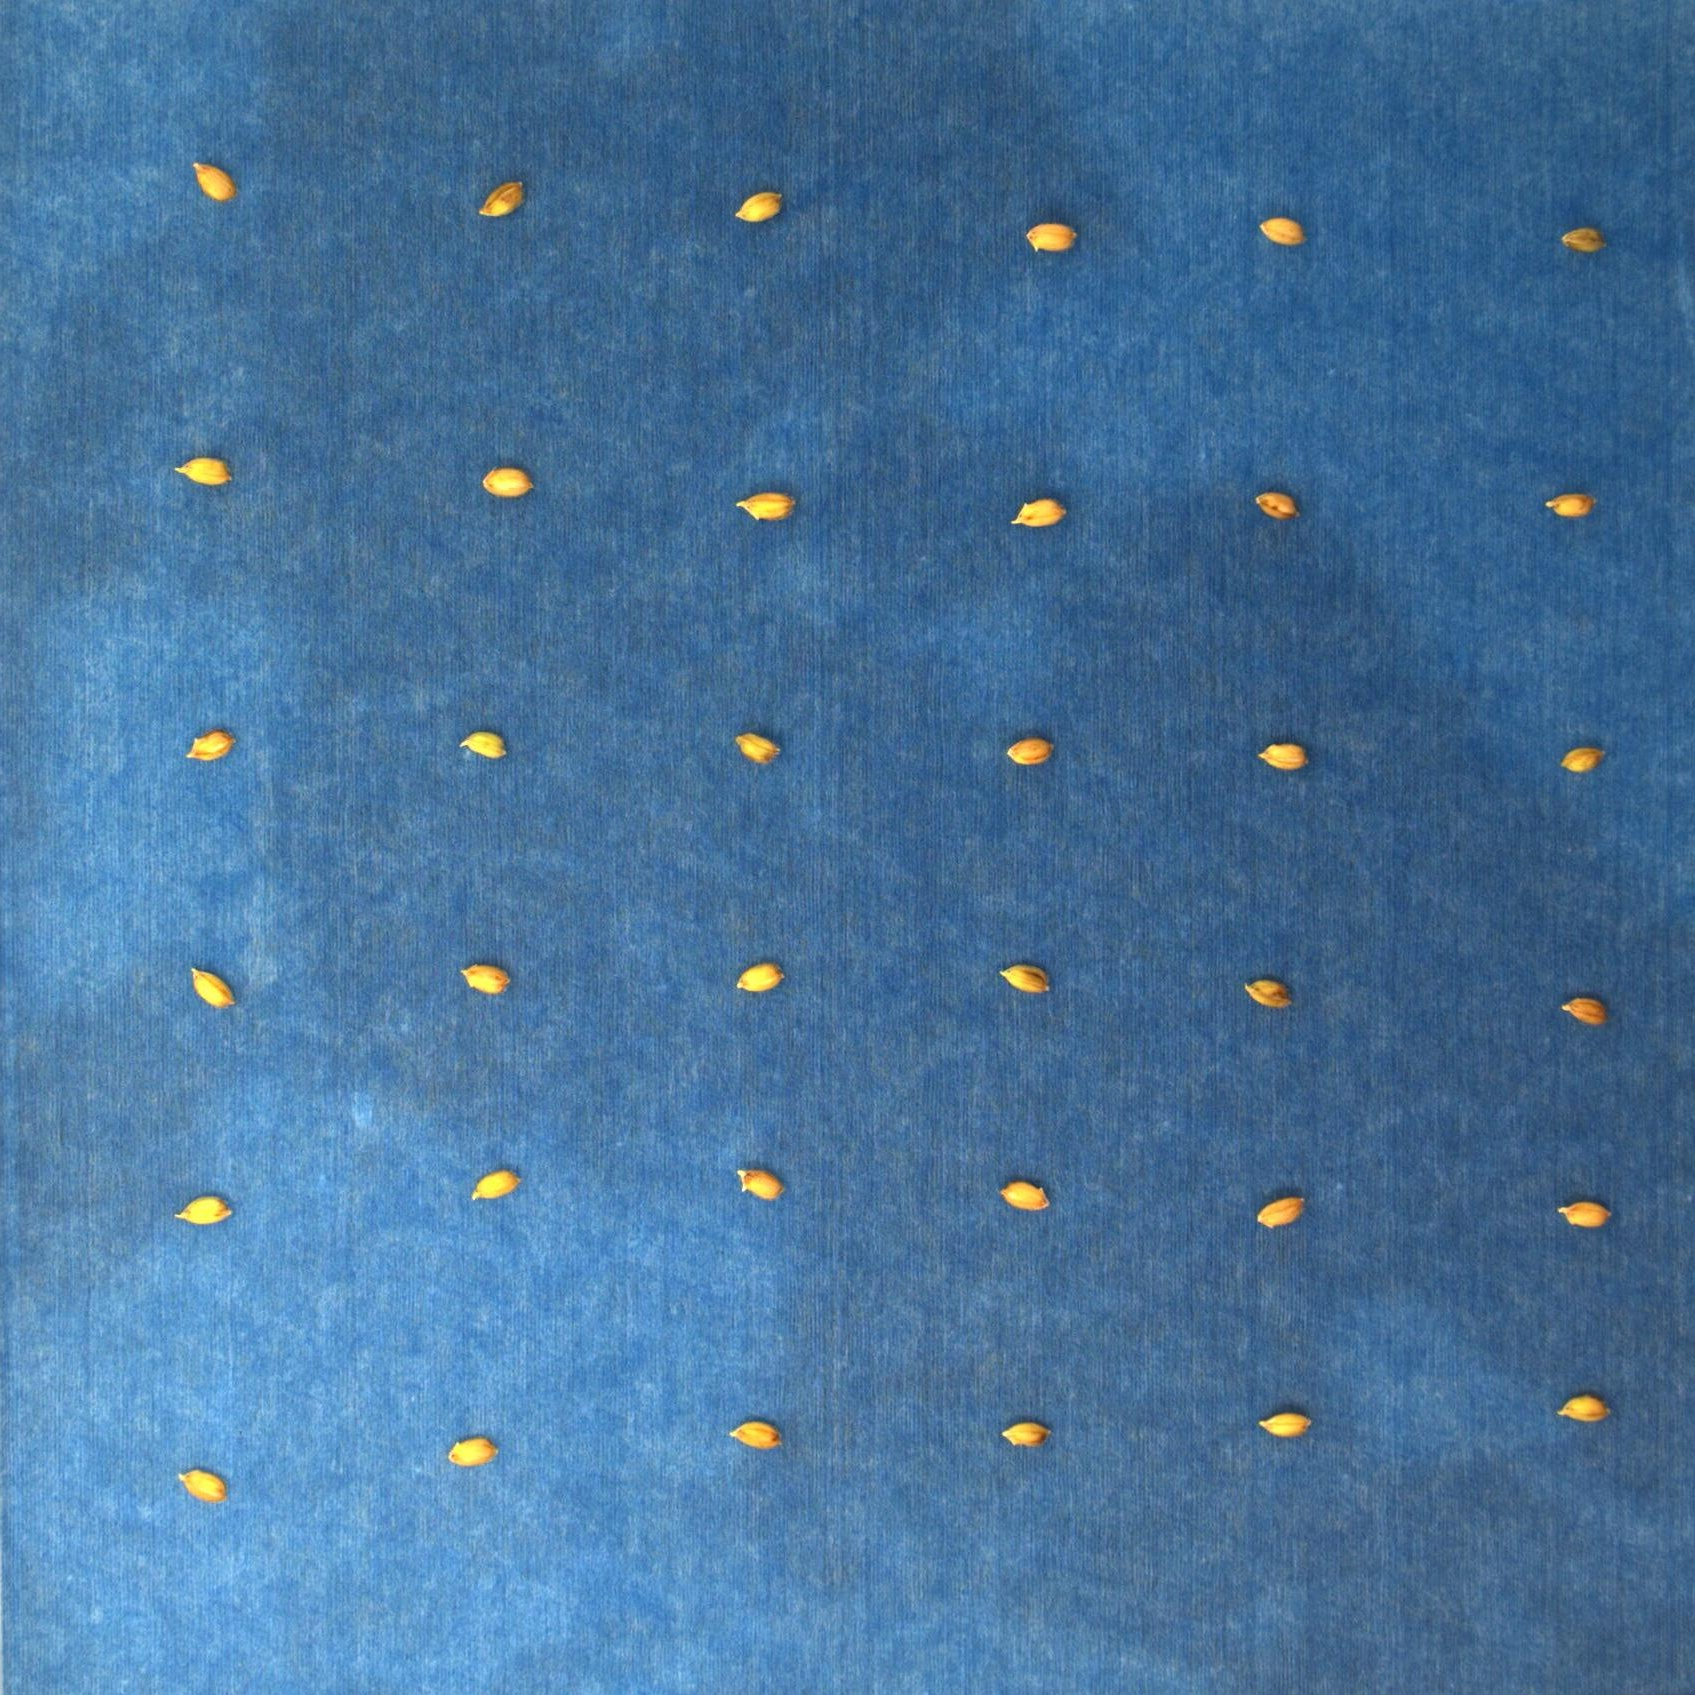not sprout: (1256, 1191, 1312, 1232), (736, 487, 799, 523), (175, 1194, 231, 1232), (477, 182, 531, 220), (175, 1468, 230, 1507), (456, 961, 515, 997), (1012, 497, 1069, 532), (175, 453, 234, 487), (472, 1167, 522, 1208), (1555, 1392, 1613, 1426), (189, 161, 236, 203), (1245, 976, 1299, 1012), (1000, 961, 1055, 995), (1558, 1198, 1614, 1232), (1543, 487, 1603, 518), (733, 733, 781, 771), (185, 730, 239, 764), (730, 1417, 784, 1451), (736, 1166, 785, 1203), (1256, 740, 1312, 773), (736, 191, 789, 225), (447, 1437, 500, 1471), (480, 467, 537, 498), (1024, 224, 1080, 255), (192, 967, 234, 1007), (997, 1181, 1051, 1212), (1257, 487, 1302, 525), (1257, 216, 1309, 248), (1558, 225, 1613, 255), (1259, 1411, 1313, 1440), (737, 962, 784, 997), (1563, 995, 1611, 1028), (1009, 736, 1055, 768), (1001, 1420, 1055, 1448), (1558, 745, 1607, 776), (456, 731, 508, 759)
